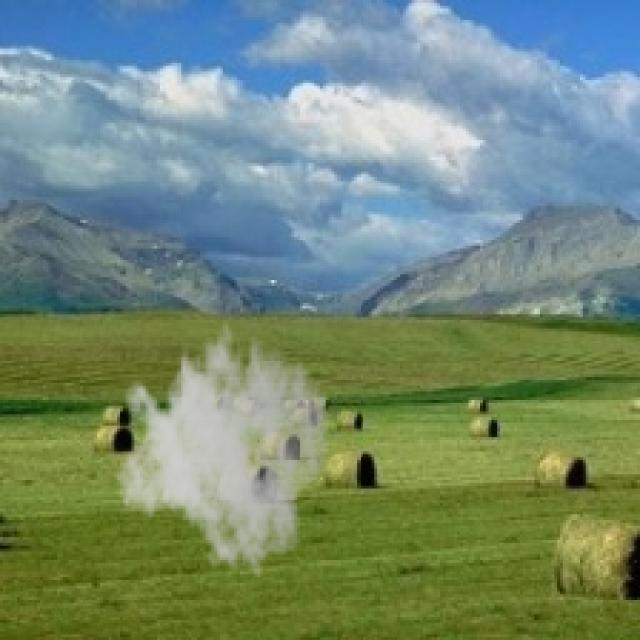Smoke: (115, 306, 332, 580)
